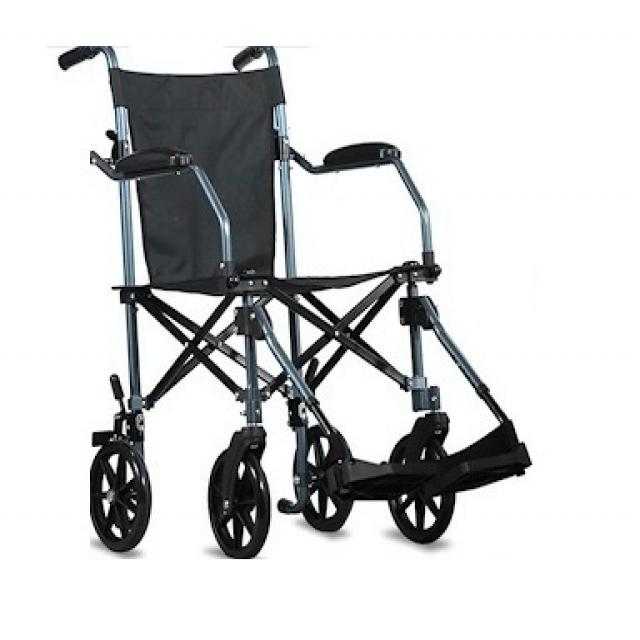wheelchair: (52, 22, 549, 573)
